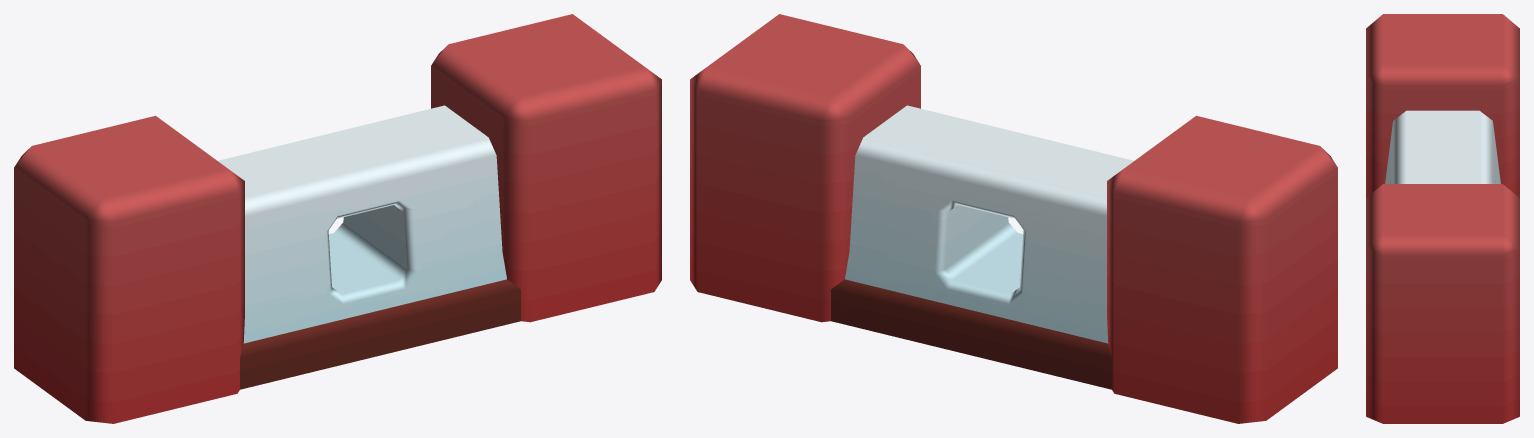
The model's file is Fence_Prop_Red.fbx.
3 views of the same model, side by side, from view 1: azimuth 30°, elevation 25°; view 2: azimuth 150°, elevation 25°; view 3: azimuth 270°, elevation 25° (orthographic). The views are drawn at different scales.
Parts seen in each view (by area): view 1: Fence_Prop, FencePost_Prop, FenceSeg_Prop; view 2: Fence_Prop, FenceSeg_Prop, FencePost_Prop; view 3: FencePost_Prop, Fence_Prop, FenceSeg_Prop.
Boxes of the visible parts, x1=… form: Fence_Prop: x1=14, y1=115, x2=506, y2=423; FencePost_Prop: x1=431, y1=14, x2=661, y2=322; FenceSeg_Prop: x1=218, y1=105, x2=520, y2=389; Fence_Prop: x1=845, y1=115, x2=1337, y2=423; FenceSeg_Prop: x1=831, y1=105, x2=1133, y2=389; FencePost_Prop: x1=690, y1=14, x2=920, y2=322; FencePost_Prop: x1=1366, y1=184, x2=1519, y2=423; Fence_Prop: x1=1366, y1=14, x2=1519, y2=197; FenceSeg_Prop: x1=1385, y1=110, x2=1500, y2=183.
Size of what is drawn, in the model's own units: 138 by 50.01 by 38.22.
